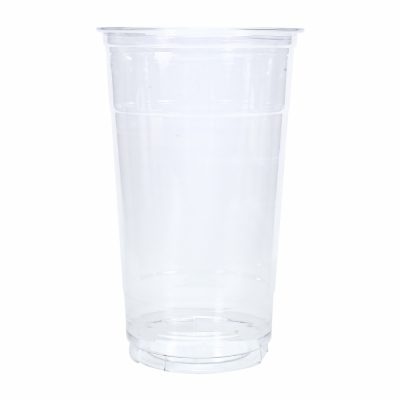plastic_glass: (90, 20, 311, 379)
